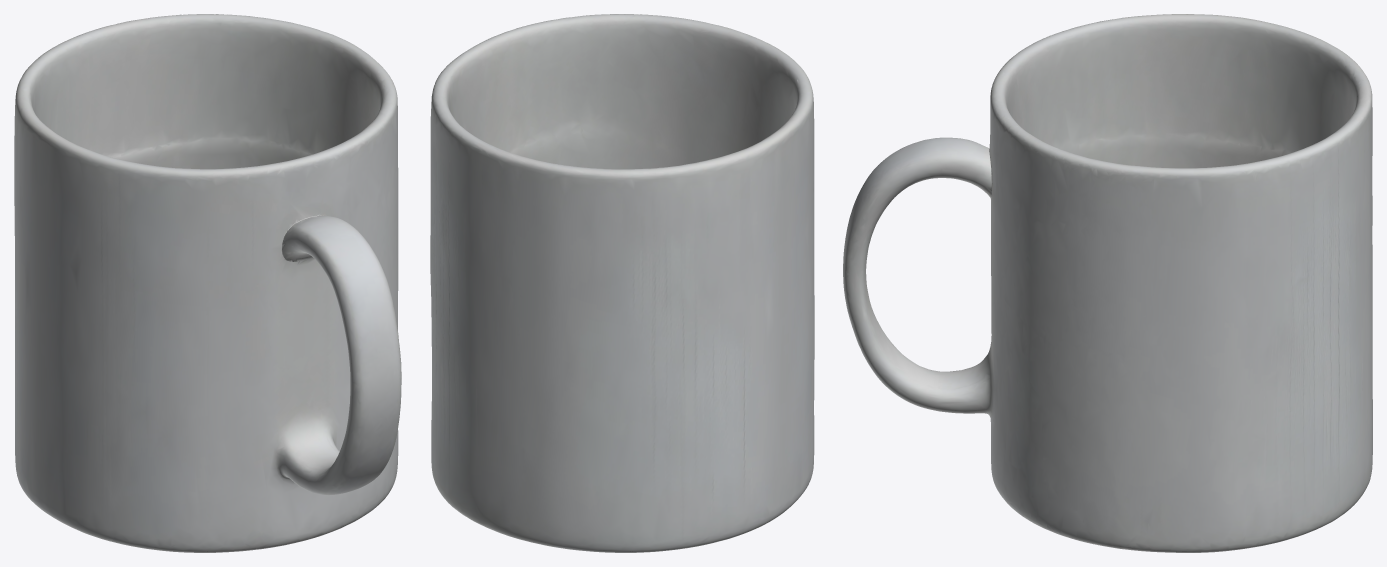
File: cup.glb
3 renders of one model, left to right at view 1: azimuth 30°, elevation 25°; view 2: azimuth 150°, elevation 25°; view 3: azimuth 270°, elevation 25°, orthographic.
Parts seen in each view (by area): view 1: model; view 2: model; view 3: model.
Part boxes in pixels (x1=…): model: x1=14, y1=14, x2=401, y2=552; model: x1=430, y1=14, x2=814, y2=552; model: x1=843, y1=14, x2=1372, y2=552.
Bounding box in the file's own units: 1.36 × 1.52 × 1.9.
Materials: 1 (1 with a texture image).
